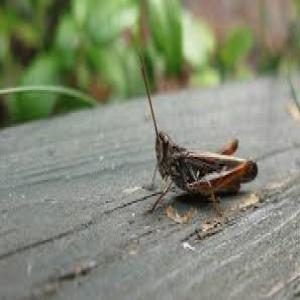locust: (139, 60, 263, 231)
